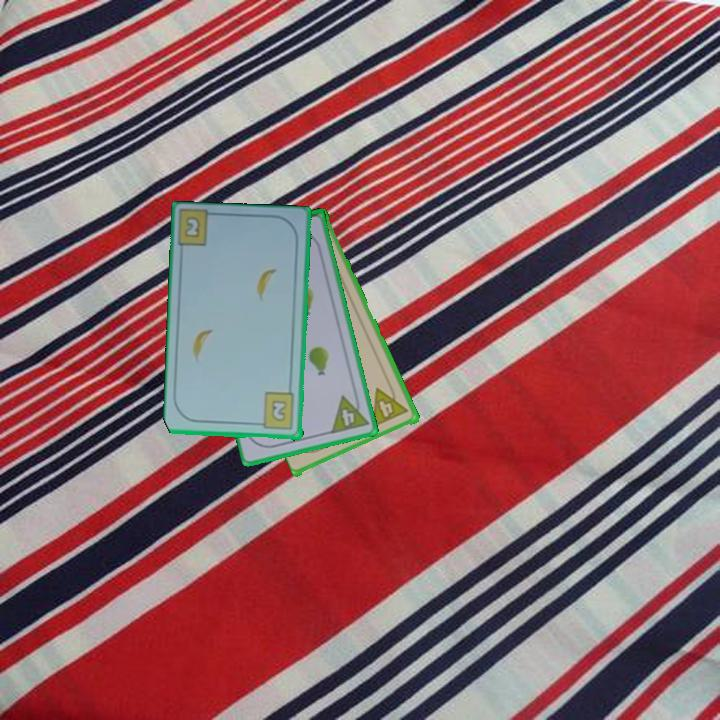2b: (254, 389, 297, 432), (181, 213, 203, 241)
4p: (328, 389, 372, 437), (369, 380, 411, 430)
